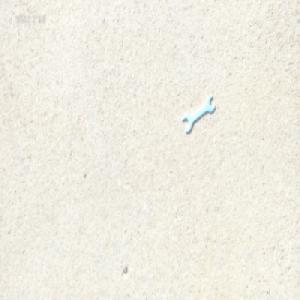Wrench: (181, 97, 212, 133)
